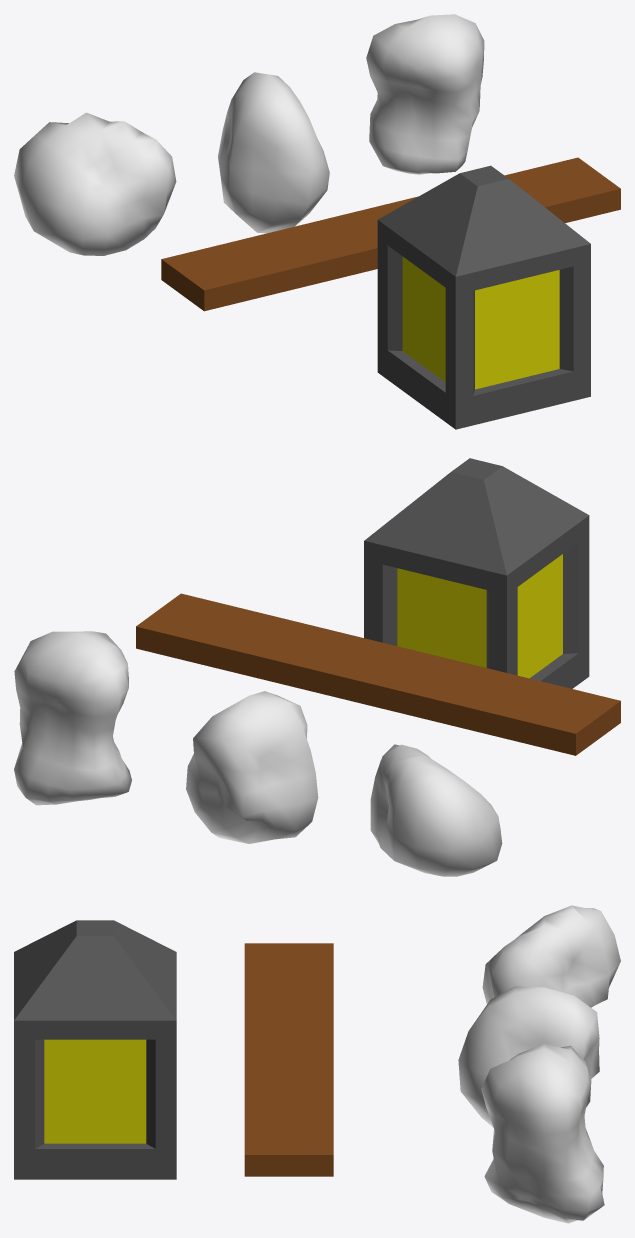
File: Midlands Extra.fbx
3 renders of one model, top to bottom at view 1: azimuth 30°, elevation 25°; view 2: azimuth 150°, elevation 25°; view 3: azimuth 270°, elevation 25°, orthographic. The views are drawn at different scales.
Parts seen in each view (by area): view 1: Lamp, Plank, Rock.002, Rock.001, Rock; view 2: Lamp, Plank, Rock.001, Rock, Rock.002; view 3: Lamp, Plank, Rock.001, Rock, Rock.002.
Boxes of the visible parts, left/top/right/bottom form: Lamp: left=377, top=165, right=590, bottom=429; Plank: left=161, top=157, right=620, bottom=311; Rock.002: left=14, top=112, right=176, bottom=255; Rock.001: left=366, top=14, right=484, bottom=174; Rock: left=218, top=72, right=329, bottom=233; Lamp: left=364, top=458, right=589, bottom=688; Plank: left=136, top=593, right=620, bottom=755; Rock.001: left=14, top=631, right=131, bottom=805; Rock: left=186, top=691, right=318, bottom=843; Rock.002: left=370, top=744, right=502, bottom=876; Lamp: left=14, top=920, right=176, bottom=1179; Plank: left=244, top=943, right=333, bottom=1176; Rock.001: left=481, top=1043, right=604, bottom=1223; Rock: left=458, top=986, right=599, bottom=1127; Rock.002: left=482, top=905, right=620, bottom=1007.
Size of the model in its own units: 6.66 by 7.47 by 2.95.
